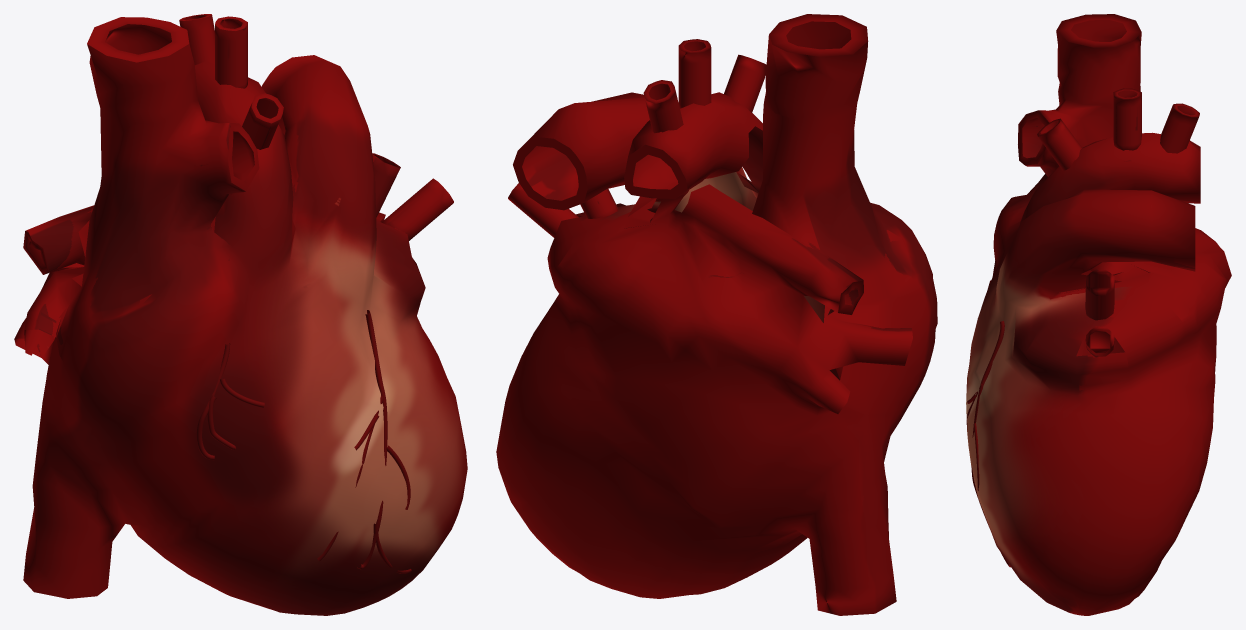
Rendered from YEARTT15.glb.
The picture shows the model from 3 angles, left to right: view 1: azimuth 30°, elevation 25°; view 2: azimuth 150°, elevation 25°; view 3: azimuth 270°, elevation 25°; orthographic projection. The views are drawn at different scales.
Parts seen in each view (by area): view 1: Plane.002; view 2: Plane.002; view 3: Plane.002.
Boxes of the visible parts, x1,y1,x2,y2 form: Plane.002: [14, 14, 467, 615]; Plane.002: [496, 14, 937, 615]; Plane.002: [966, 14, 1231, 615].
Size of the model in its own units: 3.4 by 4.74 by 2.29.
Materials: 2 (1 with a texture image).
